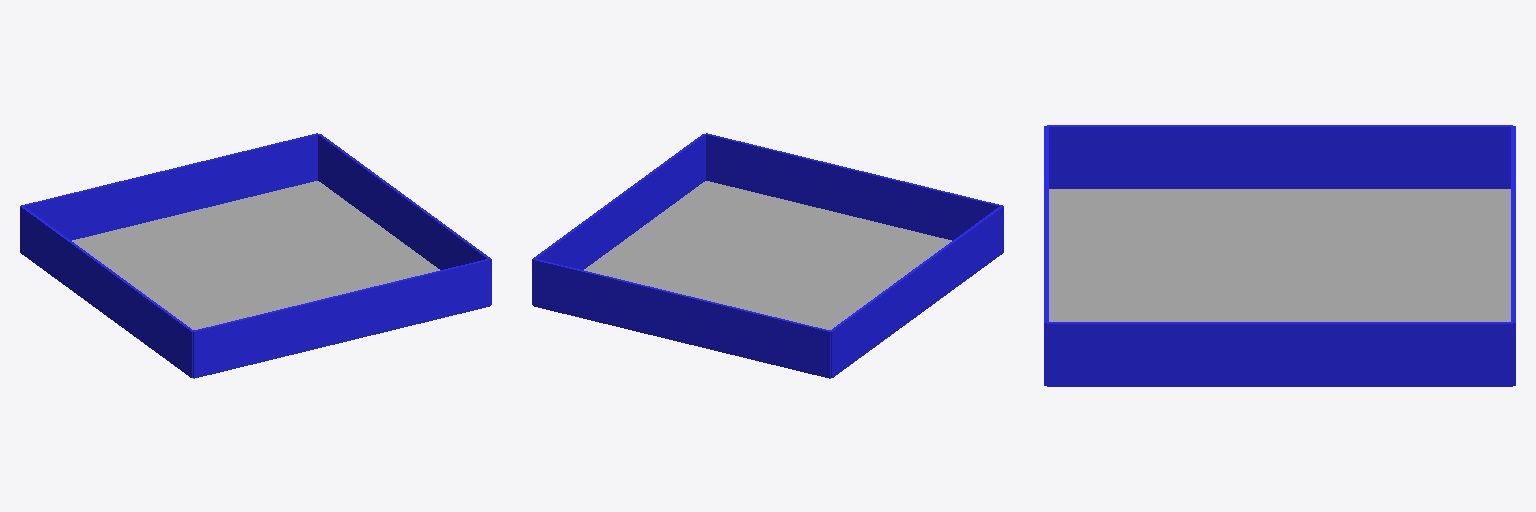
The robot description file, URDF, robot "static_objects":
<robot name="static_objects">

  <!-- Floor (root link) -->
  <link name="floor">
    <visual>
      <origin xyz="0 0 0"/>
      <geometry><box size="10 10 0.05"/></geometry>
      <material name="gray"><color rgba="0.7 0.7 0.7 1"/></material>
    </visual>
    <collision><geometry><box size="10 10 0.05"/></geometry></collision>
  </link>

  <!-- Walls -->
  <link name="wall_north">
    <visual>
      <origin xyz="0 5 0.75"/>
      <geometry><box size="10 0.1 1.5"/></geometry>
      <material name="blue"><color rgba="0.2 0.2 1 1"/></material>
    </visual>
    <collision><origin xyz="0 5 0.75"/><geometry><box size="10 0.1 1.5"/></geometry></collision>
  </link>

  <link name="wall_south">
    <visual>
      <origin xyz="0 -5 0.75"/>
      <geometry><box size="10 0.1 1.5"/></geometry>
      <material name="blue"><color rgba="0.2 0.2 1 1"/></material>
    </visual>
    <collision><origin xyz="0 -5 0.75"/><geometry><box size="10 0.1 1.5"/></geometry></collision>
  </link>

  <link name="wall_east">
    <visual>
      <origin xyz="5 0 0.75"/>
      <geometry><box size="0.1 10 1.5"/></geometry>
      <material name="blue"><color rgba="0.2 0.2 1 1"/></material>
    </visual>
    <collision><origin xyz="5 0 0.75"/><geometry><box size="0.1 10 1.5"/></geometry></collision>
  </link>

  <link name="wall_west">
    <visual>
      <origin xyz="-5 0 0.75"/>
      <geometry><box size="0.1 10 1.5"/></geometry>
      <material name="blue"><color rgba="0.2 0.2 1 1"/></material>
    </visual>
    <collision><origin xyz="-5 0 0.75"/><geometry><box size="0.1 10 1.5"/></geometry></collision>
  </link>

  <!-- Fixed joints linking all walls to floor -->
  <joint name="joint_floor_wall_north" type="fixed">
    <parent link="floor"/>
    <child link="wall_north"/>
  </joint>

  <joint name="joint_floor_wall_south" type="fixed">
    <parent link="floor"/>
    <child link="wall_south"/>
  </joint>

  <joint name="joint_floor_wall_east" type="fixed">
    <parent link="floor"/>
    <child link="wall_east"/>
  </joint>

  <joint name="joint_floor_wall_west" type="fixed">
    <parent link="floor"/>
    <child link="wall_west"/>
  </joint>

</robot>

--- Facts derived from the render (not from the file) ---
3 views of the same robot in one strip: view 1: azimuth 30°, elevation 25°; view 2: azimuth 150°, elevation 25°; view 3: azimuth 270°, elevation 25° (orthographic).
Model static_objects with 5 links and 4 joints (4 fixed), rooted at floor, posed every joint at zero.
Visible links, largest first — view 1: floor, wall_south, wall_north, wall_west, wall_east; view 2: floor, wall_north, wall_south, wall_west, wall_east; view 3: floor, wall_east, wall_west, wall_north, wall_south.
Boxes of the visible links, x1,y1,x2,y2 form: floor: (72,181,439,378); wall_south: (193,259,490,378); wall_north: (21,133,318,240); wall_west: (20,206,193,377); wall_east: (318,134,491,304); floor: (584,181,951,378); wall_north: (533,259,830,378); wall_south: (705,133,1002,240); wall_west: (830,206,1003,377); wall_east: (532,134,705,304); floor: (1049,189,1510,321); wall_east: (1047,322,1512,386); wall_west: (1047,125,1512,188); wall_north: (1511,126,1515,385); wall_south: (1044,126,1048,385).
Size in the robot's own frame: 10.1 by 10.1 by 1.52 metres.
Geometry: primitives only (box / cylinder / sphere), no mesh files.
